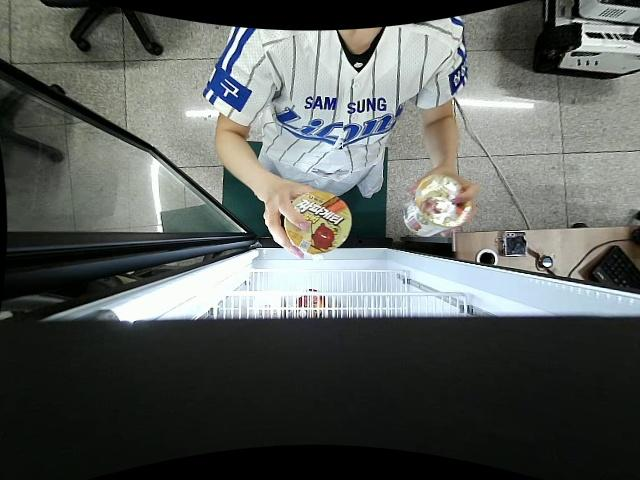00_hand: (407, 168, 477, 237), (263, 179, 319, 260)
04_chapagetti_S: (406, 171, 471, 236), (284, 191, 352, 252)
